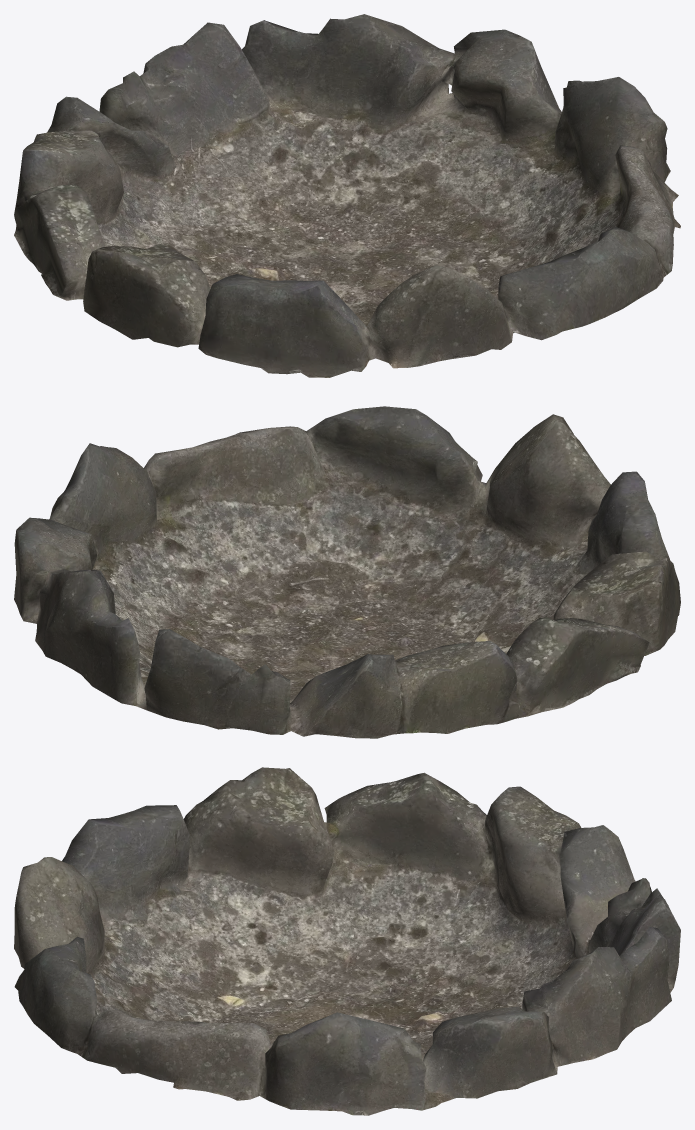
Rendered from stone_fire_pit.glb.
3 renders of one model, top to bottom at view 1: azimuth 30°, elevation 25°; view 2: azimuth 150°, elevation 25°; view 3: azimuth 270°, elevation 25°, orthographic.
Visible parts, largest first — view 1: stone_fire_pit_lod0; view 2: stone_fire_pit_lod0; view 3: stone_fire_pit_lod0.
Part boxes in pixels (<box>): stone_fire_pit_lod0: <box>14,14,680,377</box>; stone_fire_pit_lod0: <box>14,406,680,738</box>; stone_fire_pit_lod0: <box>14,767,680,1115</box>.
Size of what is drawn, in the model's own units: 1.45 by 0.3883 by 1.43.
1 material, 1 textured.
